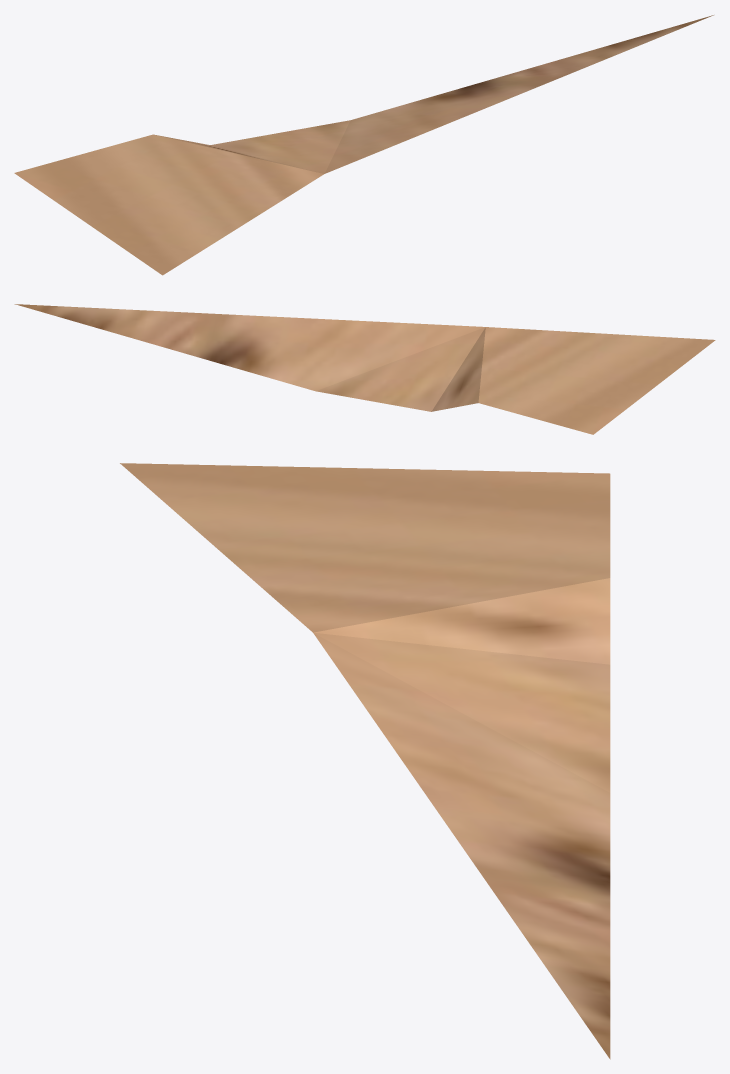
3 renders of one model, top to bottom at view 1: azimuth 30°, elevation 25°; view 2: azimuth 150°, elevation 25°; view 3: azimuth 270°, elevation 25°, orthographic. The views are drawn at different scales.
Size of the model in its own units: 0.7248 by 0.0399 by 0.2658.
Materials: 1 (1 with a texture image).
